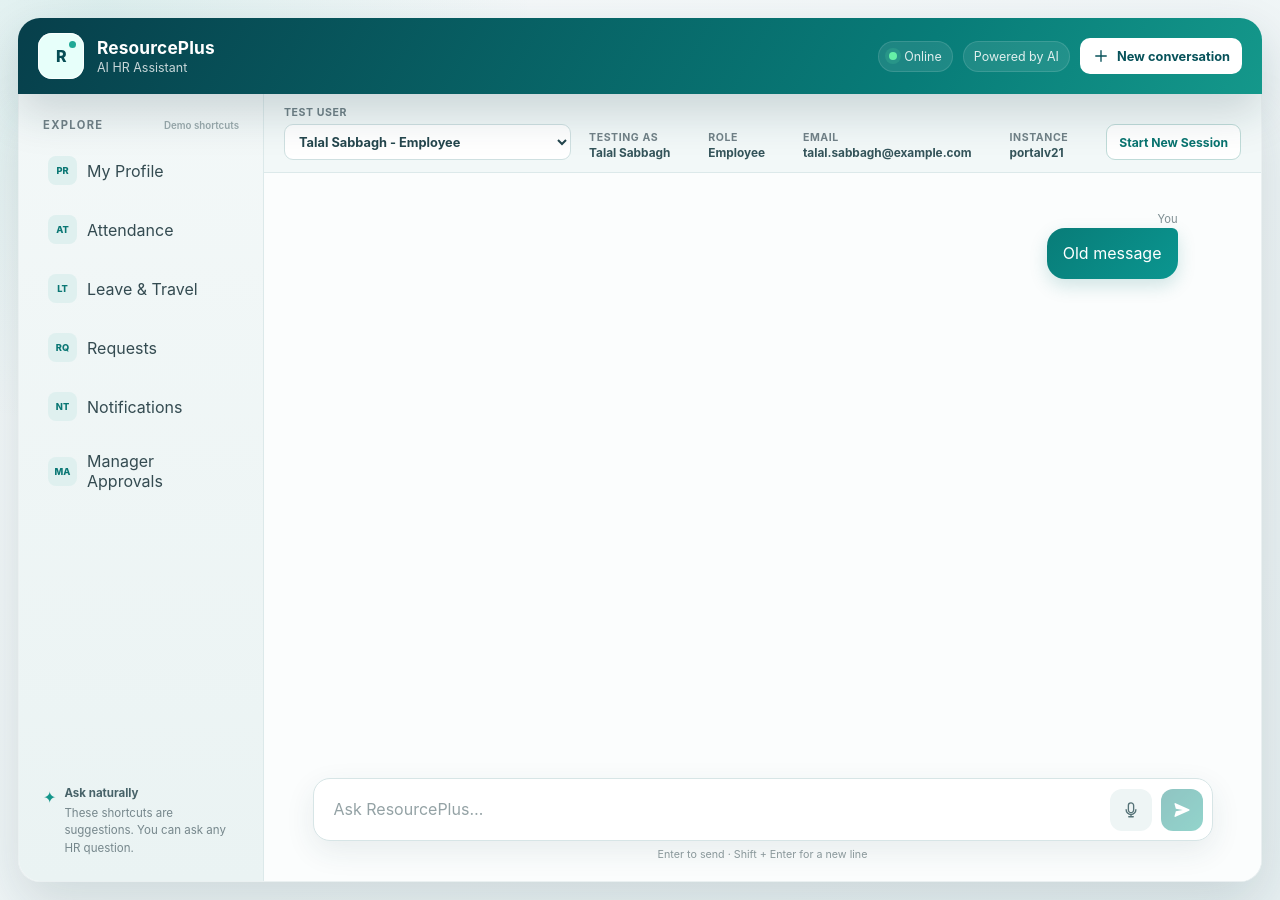
Test case: ResourcePlus demo UI › clears the retained session and messages for a new conversation
Expected: the text "Old message" is shown, x1=1063 y1=243 x2=1162 y2=263
Click the button with aria-label "Start a new conversation" at x=1161, y=56, box x1=1080 y1=38 x2=1242 y2=74
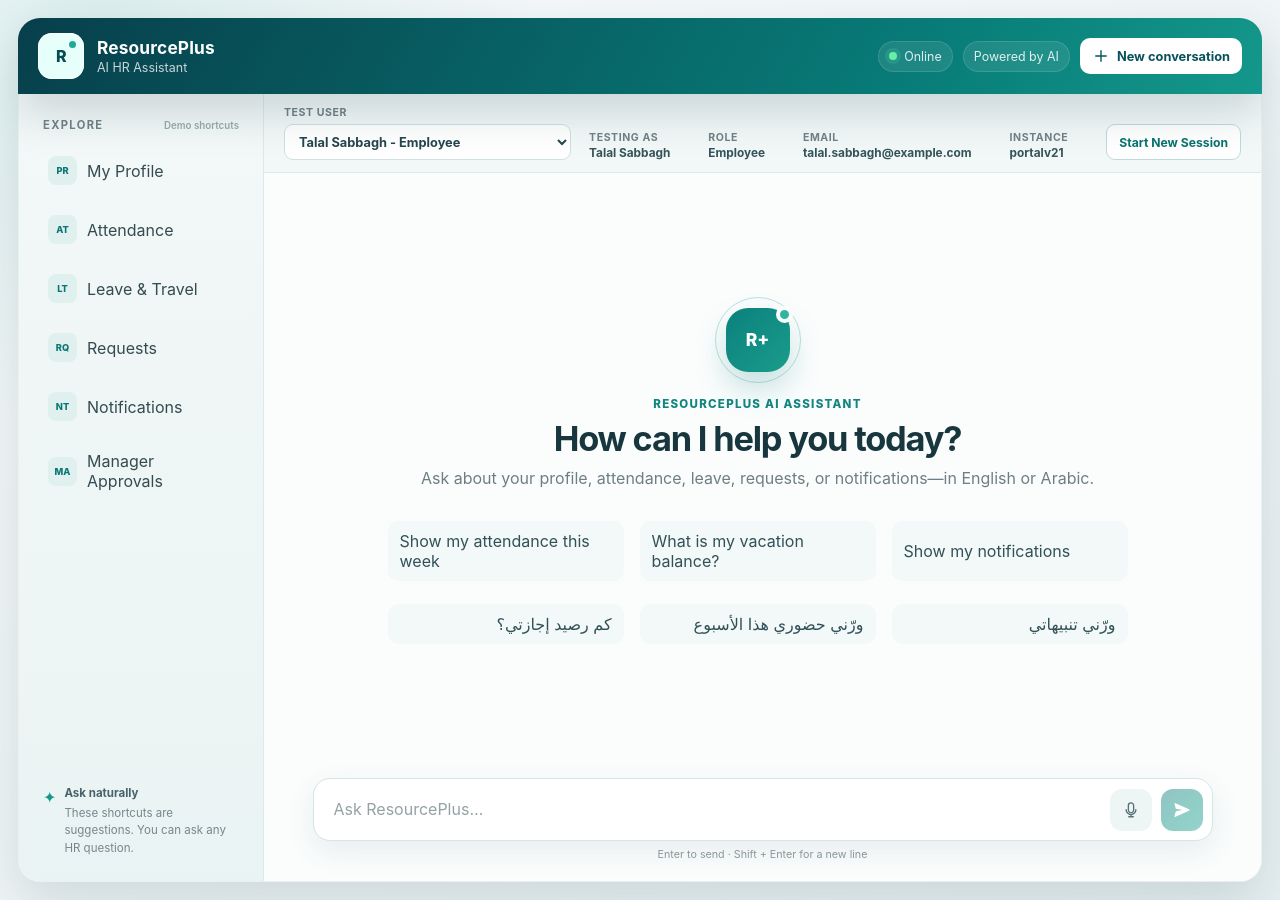
Expected: the heading "How can I help you today?" is shown, x1=554 y1=418 x2=961 y2=459
Expected: the text "Old message" is gone
